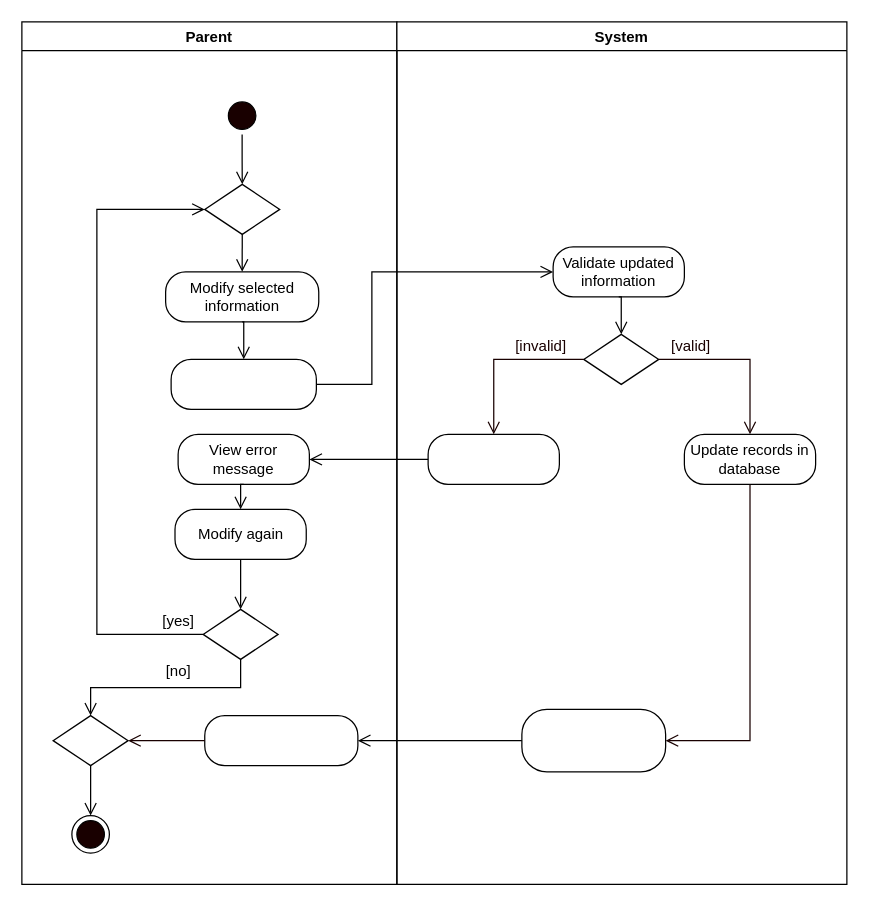
Image size: 869x906. Some labels were removed from this diagram. Each missing label, with the centre of its shape:
Show error message: pixel 493 458
Show message of successful modifying: pixel 593 740
Submit updated information: pixel 243 383
View updated student information: pixel 281 740
